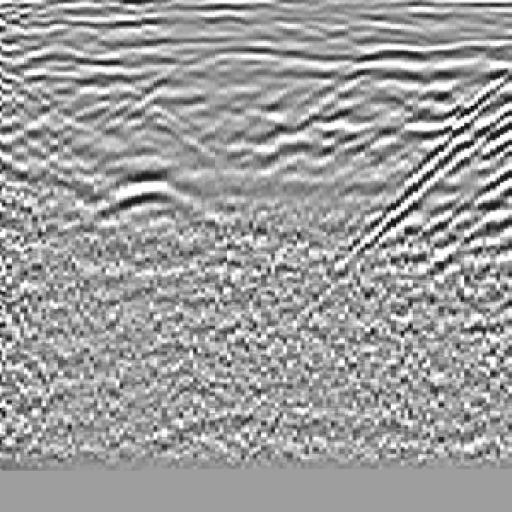metalic: (48, 36, 238, 273)
nonmetalic: (341, 43, 512, 291)
